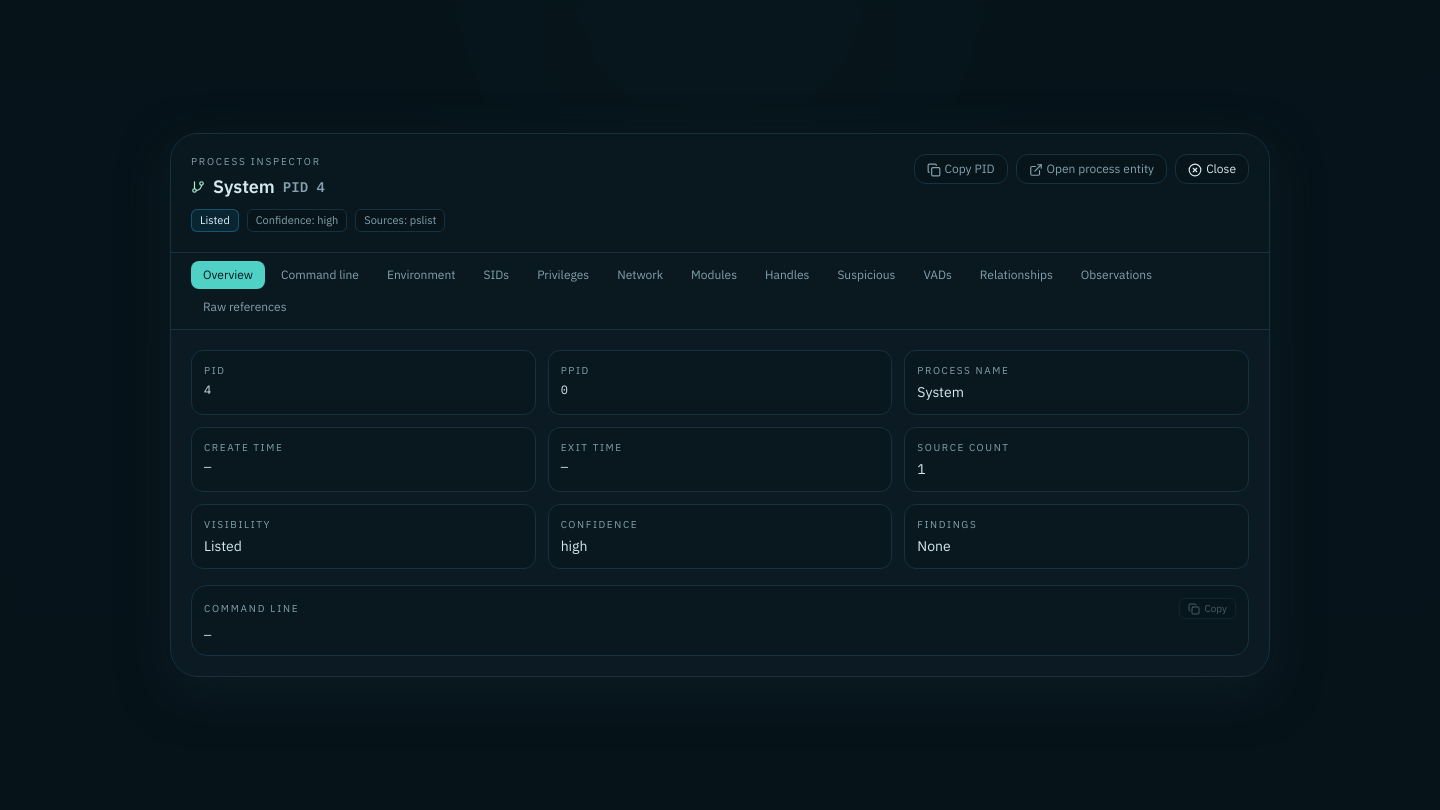
Test: ProcessDetailModal › environment › renders environment variables and values
Check: the dialog with test id "process-detail-modal" is shown, box left=170, top=133, right=1270, bottom=677
What coordinates should you click on to do the following:
click the tab with test id "process-detail-modal-tab-environment"
I would click on:
 (421, 275)
Its box is left=375, top=261, right=468, bottom=289.
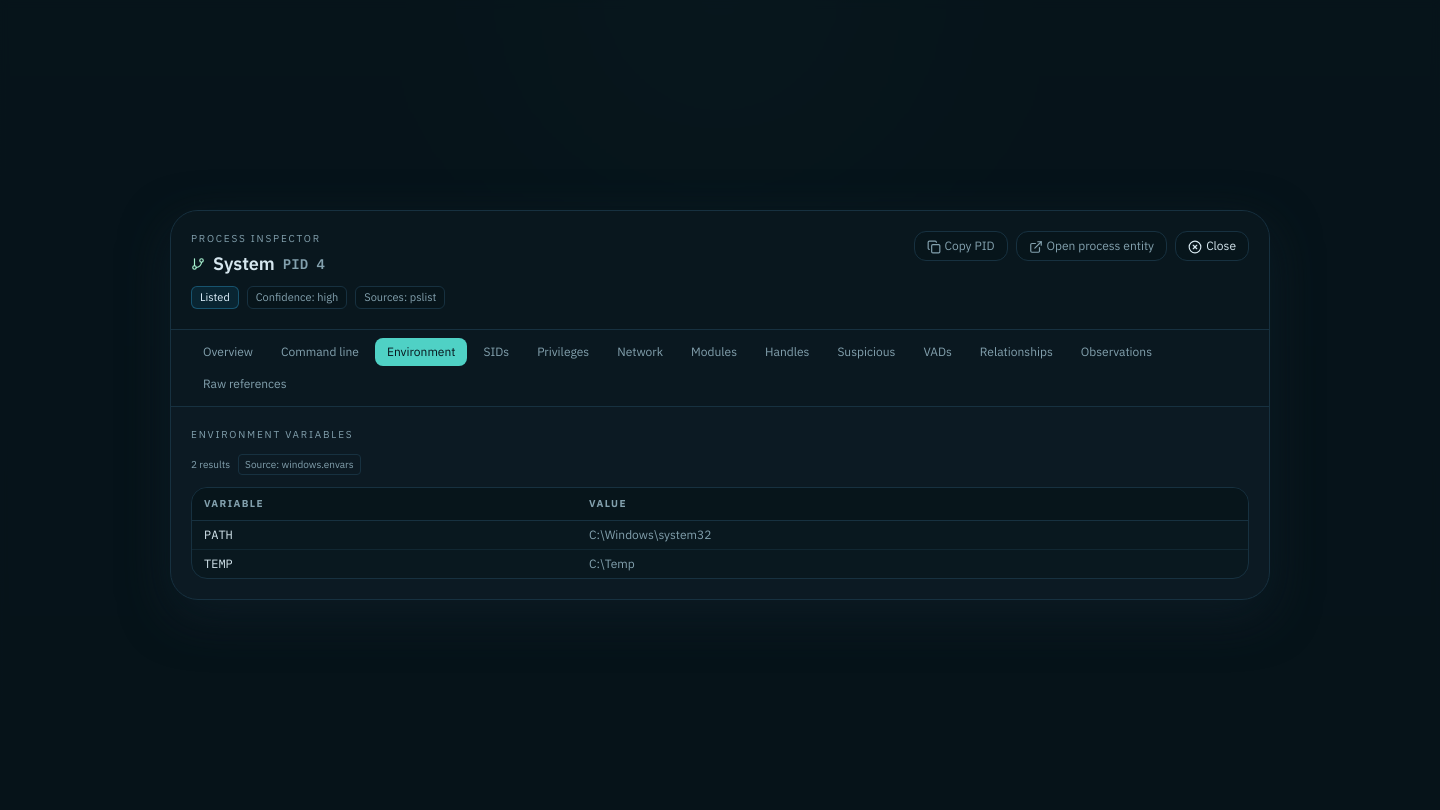
Check: the text "PATH" is shown, box left=192, top=520, right=577, bottom=549
Check: the text "C:\\Windows\\system32" is shown, box left=577, top=520, right=1248, bottom=549
Check: the text "C:\\Temp" is shown, box left=577, top=549, right=1248, bottom=578
